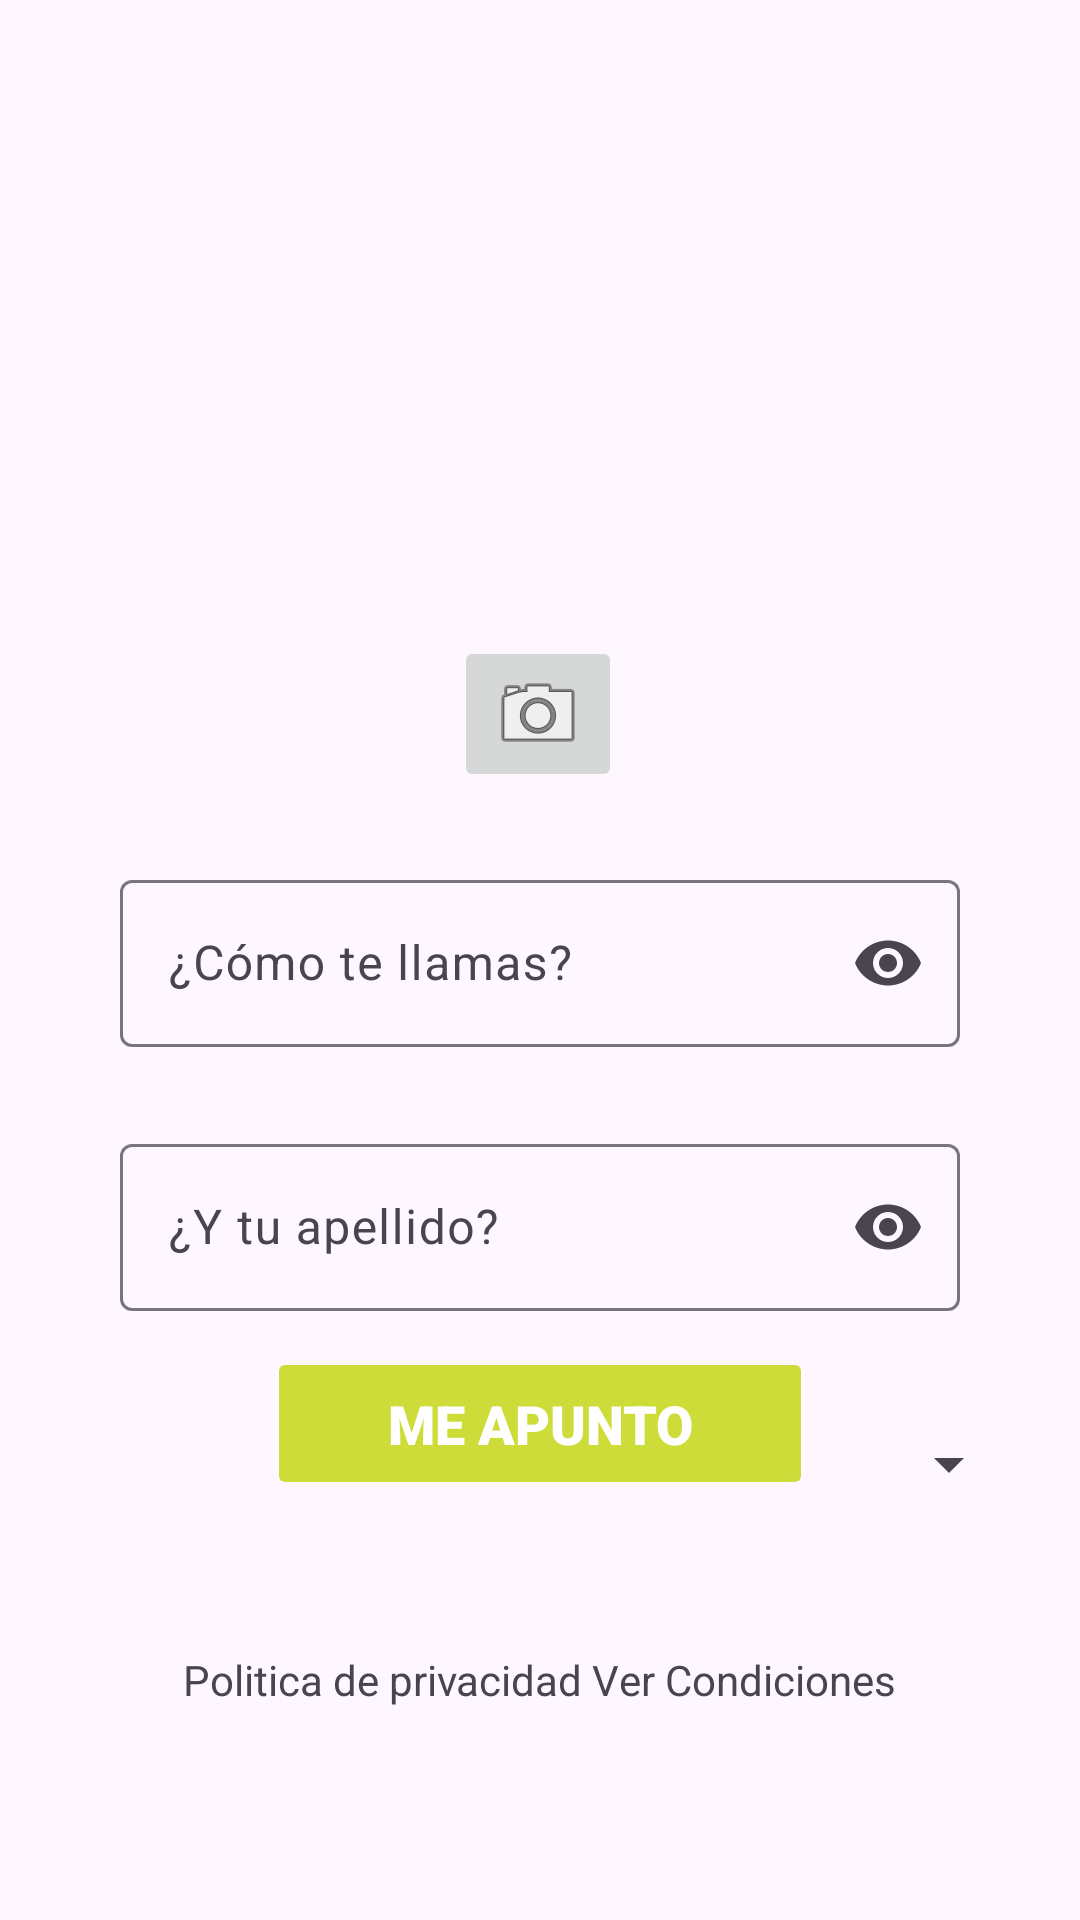

Locate icon controls on the screen. Image size 1080px×1920px, boxes as (x1, y1, x2, y2).
boton de la camara: (466, 654, 610, 774)
